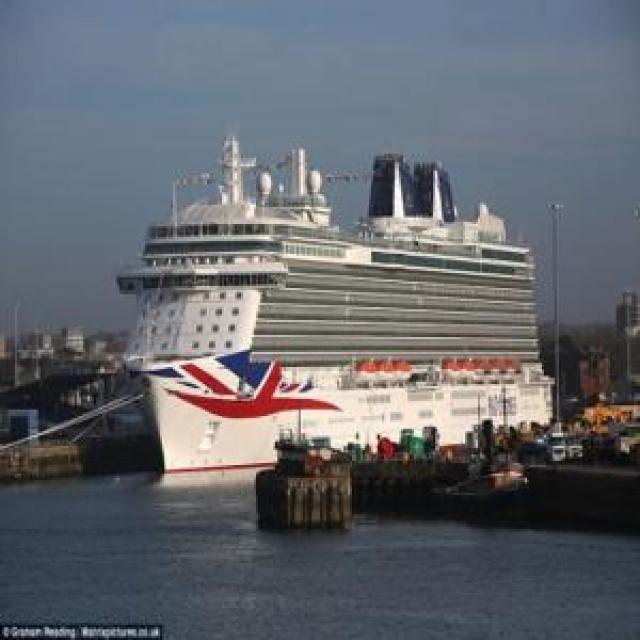passenger ship: (123, 129, 563, 462)
